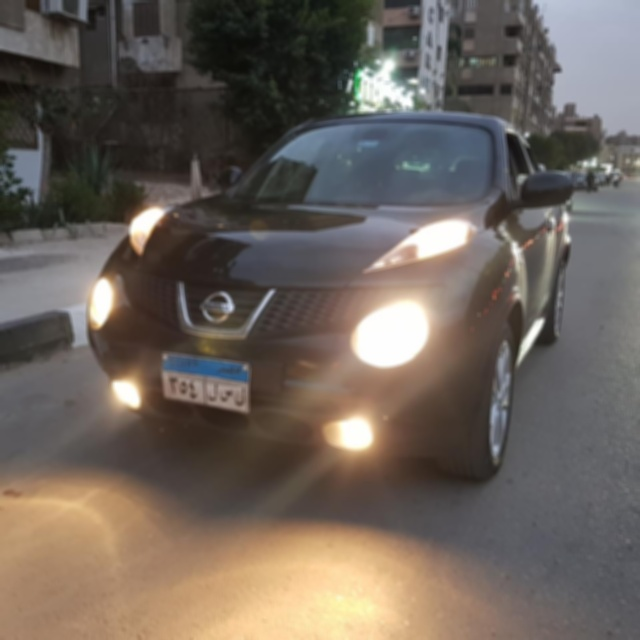License Plate: (153, 350, 253, 417)
